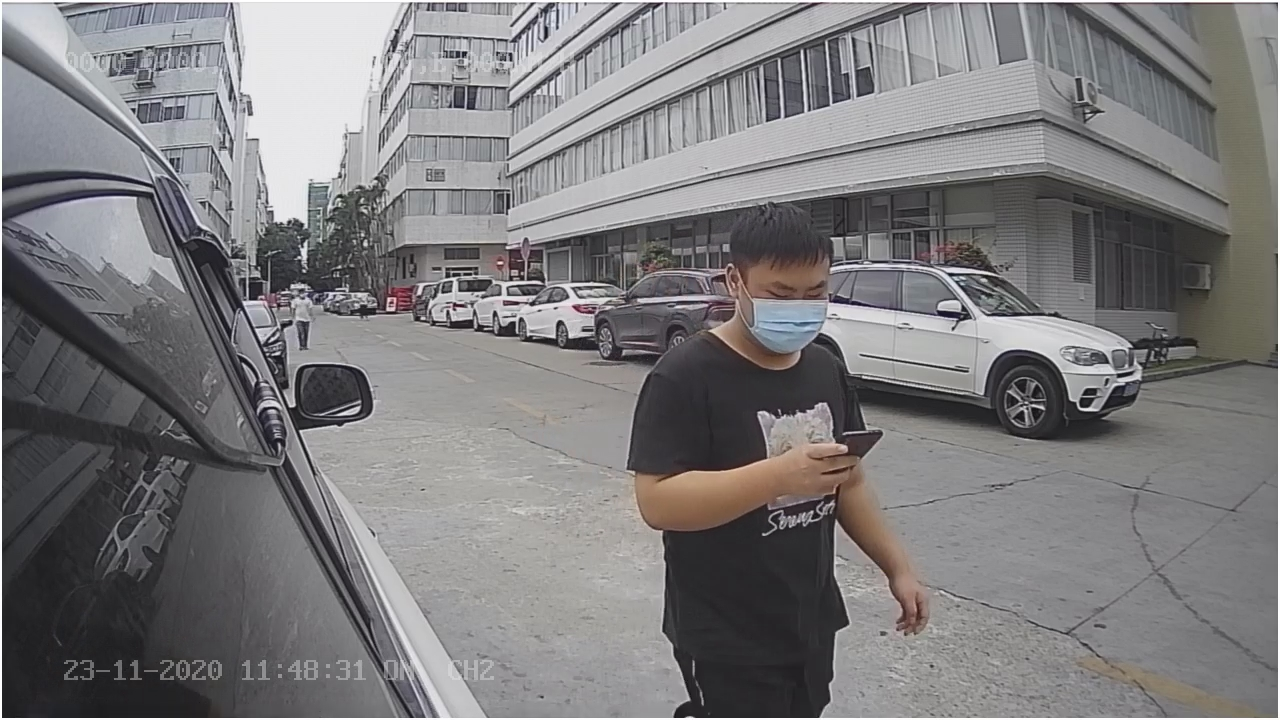person: (608, 195, 932, 640)
